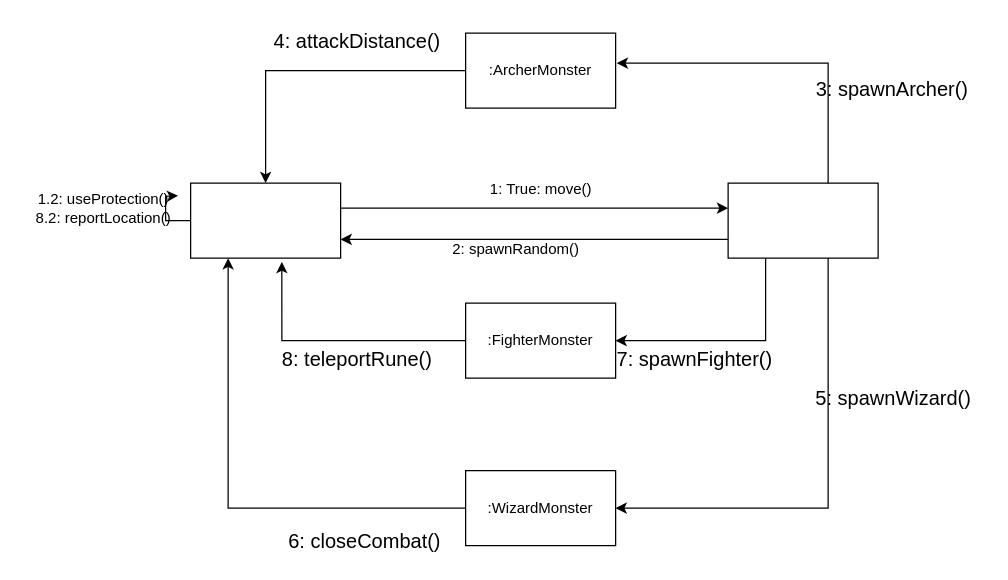
The diagram is 1008 pixels wide and 580 high, and some of its shapes have lost their labels. Here are the shapes that lost their labels. From the top down, the box of each, then its label:
(189, 182, 341, 258): :Player
(727, 182, 878, 258): :GameSystem
